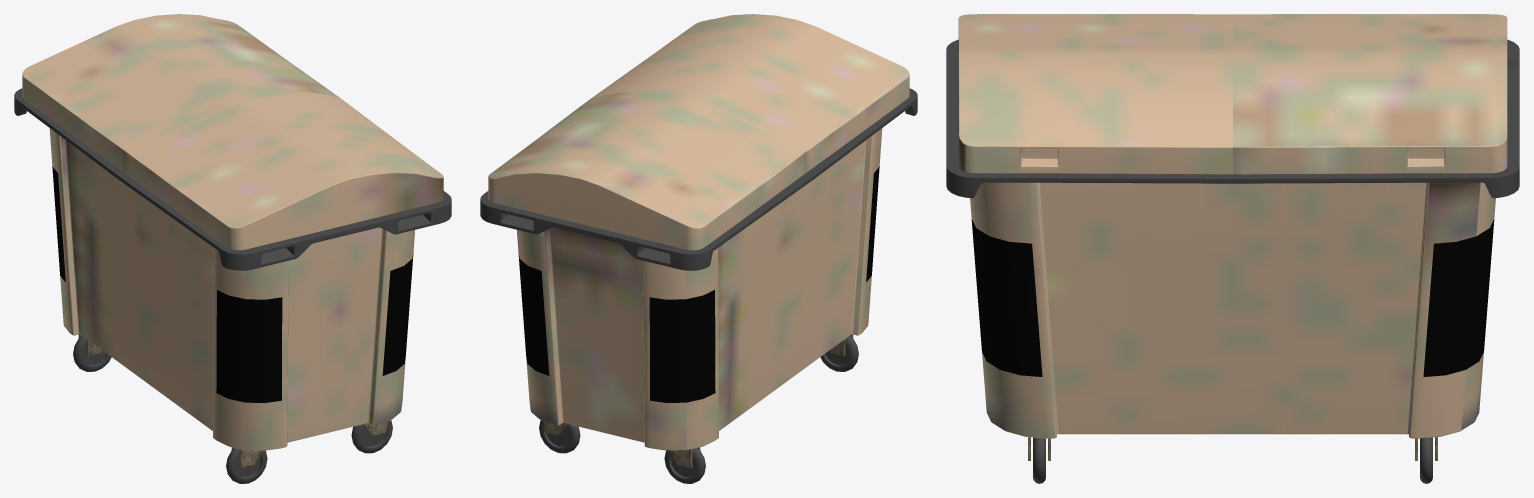
File: Cassonetto.fbx
3 renders of one model, left to right at view 1: azimuth 30°, elevation 25°; view 2: azimuth 150°, elevation 25°; view 3: azimuth 270°, elevation 25°, orthographic. The views are drawn at different scales.
Parts seen in each view (by area): view 1: Cassonetto; view 2: Cassonetto; view 3: Cassonetto.
Boxes of the visible parts, x1,y1,x2,y2 form: Cassonetto: (14, 14, 451, 483); Cassonetto: (480, 14, 917, 483); Cassonetto: (946, 14, 1519, 483).
Size of the model in its own units: 130 by 168 by 222.
